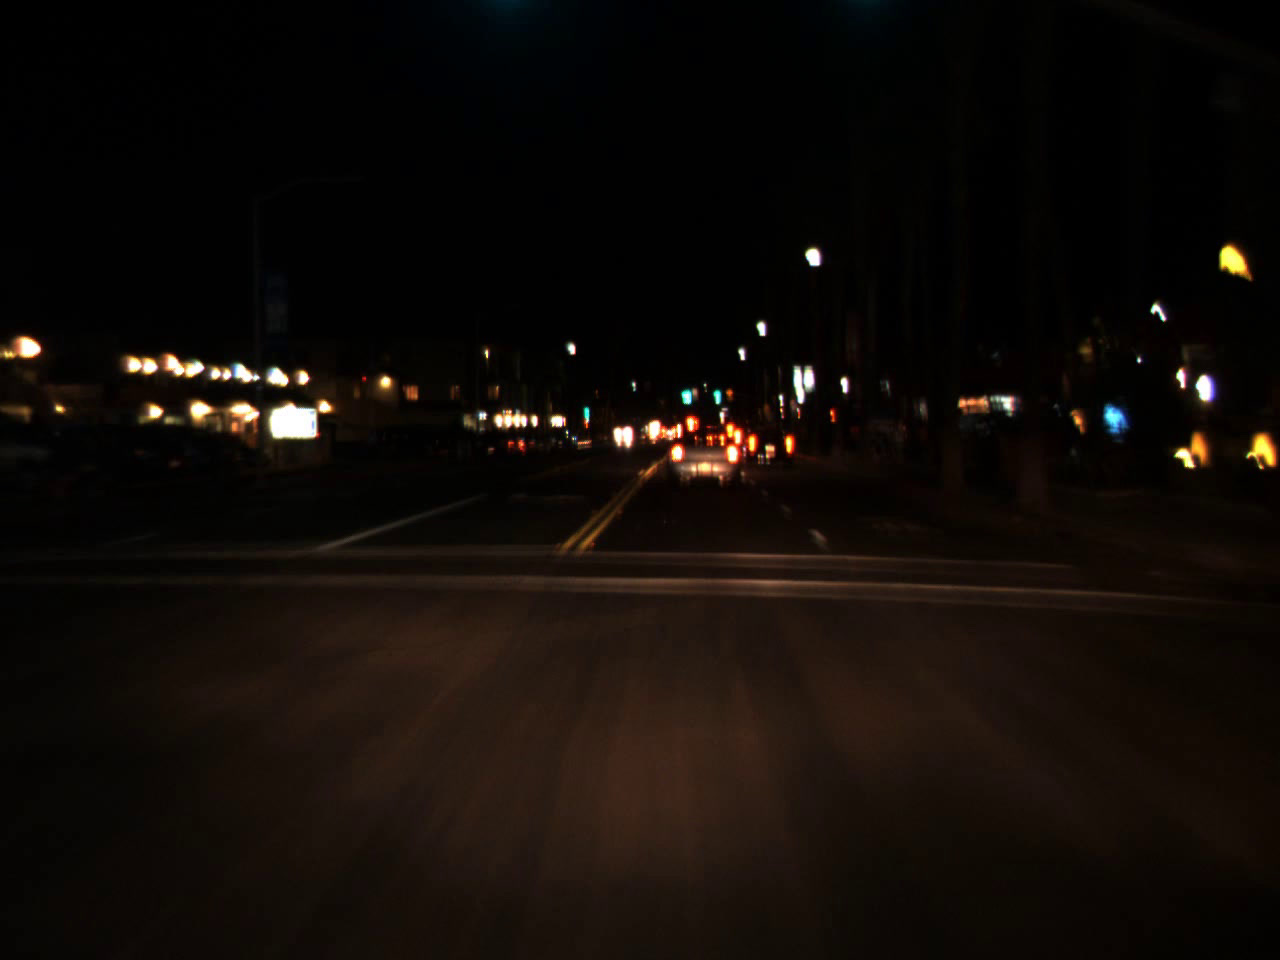go: (677, 371, 693, 410), (711, 374, 721, 407), (583, 393, 590, 423)
